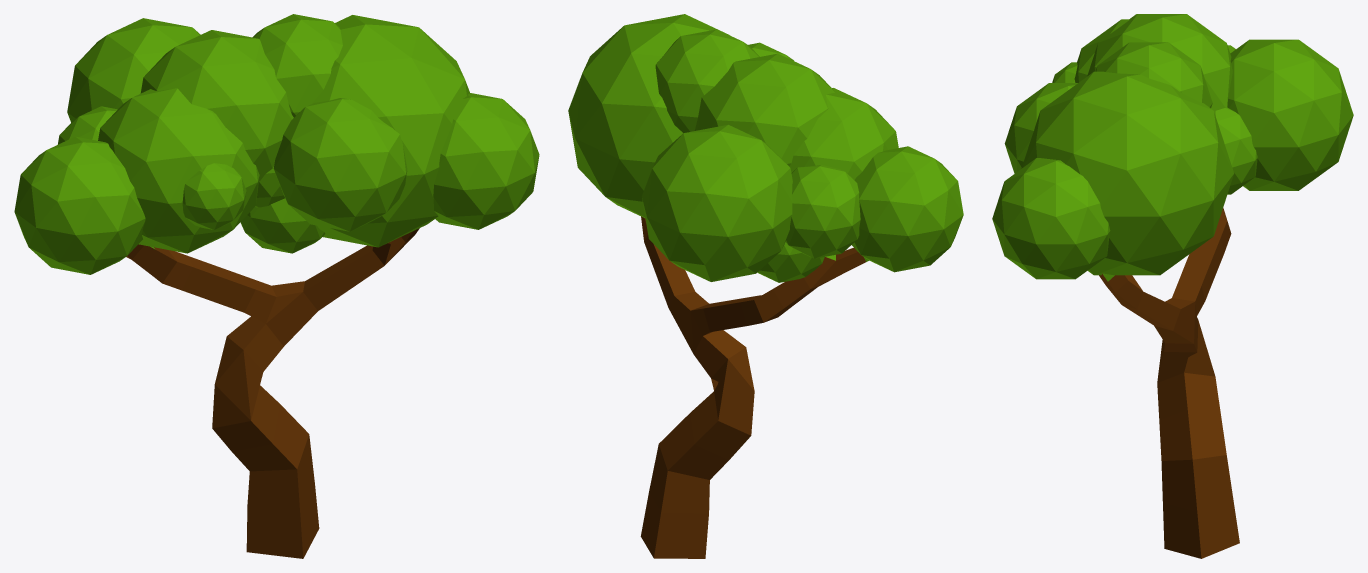
Rendered from tree1.fbx.
3 renders of one model, left to right at view 1: azimuth 30°, elevation 25°; view 2: azimuth 150°, elevation 25°; view 3: azimuth 270°, elevation 25°, orthographic. The views are drawn at different scales.
Parts seen in each view (by area): view 1: Tree1; view 2: Tree1; view 3: Tree1.
Part boxes in pixels (x1=…): Tree1: x1=14, y1=14, x2=539, y2=558; Tree1: x1=568, y1=14, x2=963, y2=558; Tree1: x1=992, y1=14, x2=1353, y2=558.
Bounding box in the file's own units: 192 × 224 × 147.
